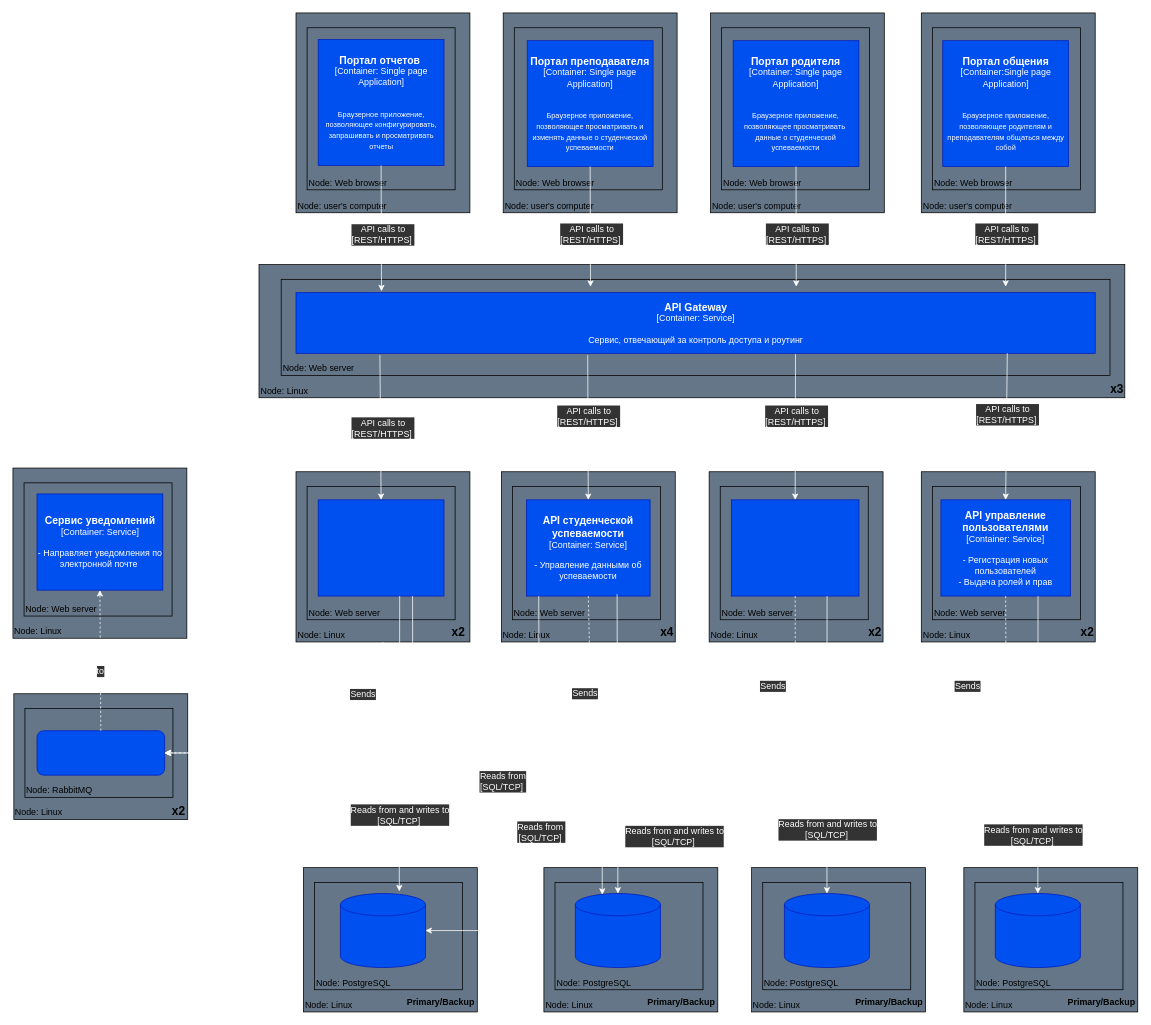
This 1151x1025 diagram has some shape labels left out. The shapes that lost their labels are listed below. From the top down, each one's centre as x and y in pixels, then its label:
the point at 380,547: API отчетов [Container: Service] - Генерация отчетов
the point at 795,547: API форумов [Container: Service] - Управление сообщениями - Поиск по сообщениям
the point at 100,752: Очередь уведомлений [Container: Queue]
the point at 383,930: БД готовых отчетов
the point at 617,930: БД студенческой успеваемости
the point at 827,930: БД форумных сообщений
the point at 1037,930: БД пользователей
